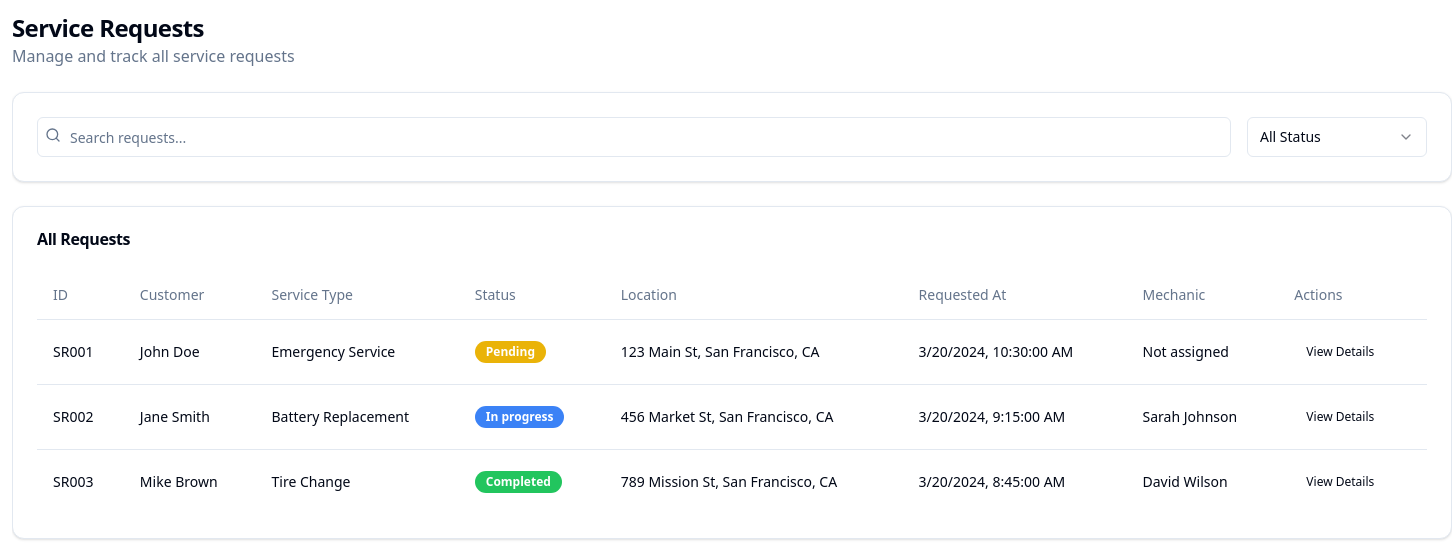
ServiceRequests › filters service requests by search query
Type "John Doe" into the field with placeholder "Search requests..." at (634, 137), box top-left (37, 117), bottom-right (1231, 157)
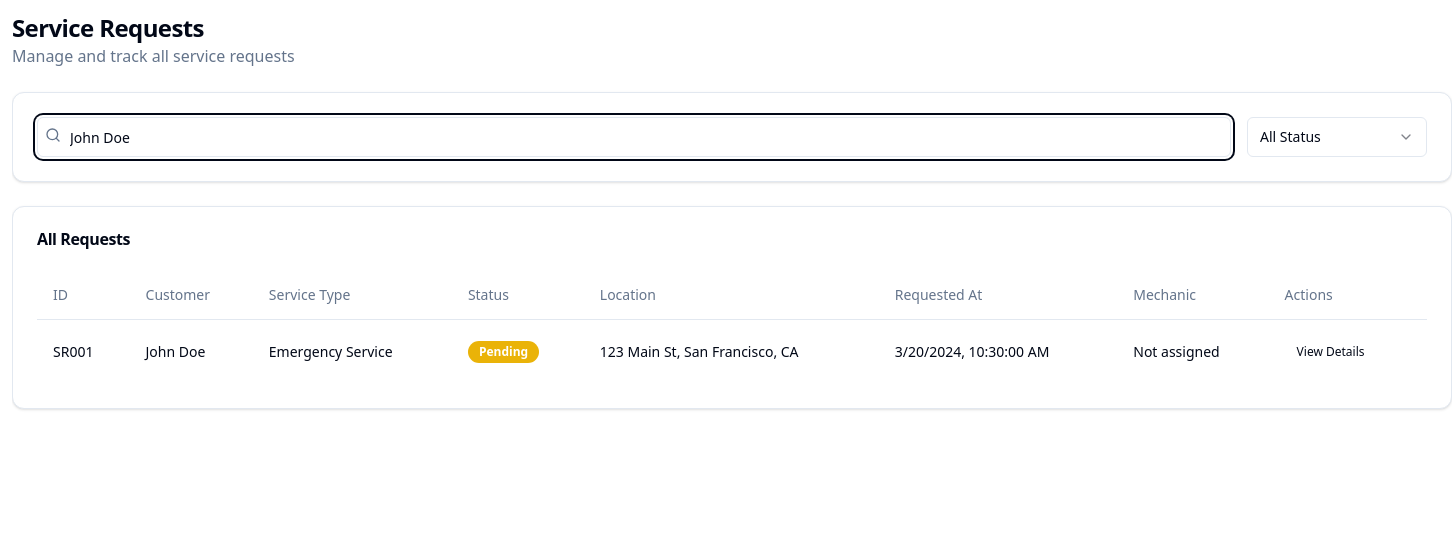
Expected: the text "John Doe" is shown, top-left (130, 319), bottom-right (253, 384)
Expected: the text "Jane Smith" is gone
